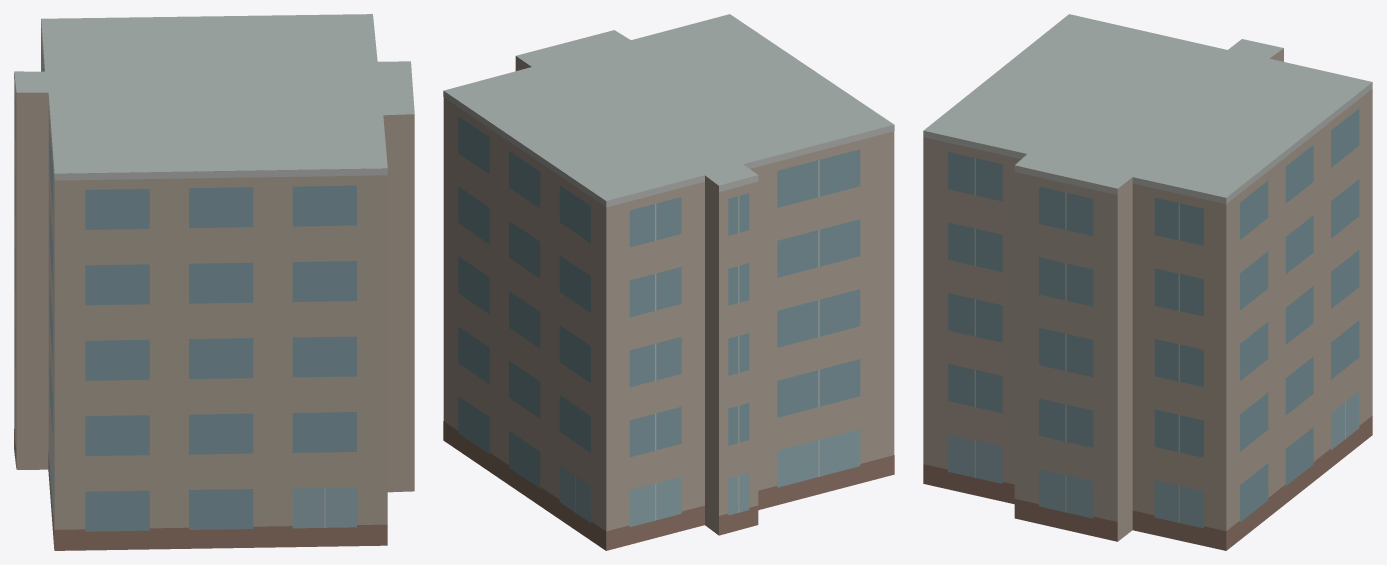
Rendered from survey-upis-32892425.glb.
3 renders of one model, left to right at view 1: azimuth 30°, elevation 25°; view 2: azimuth 150°, elevation 25°; view 3: azimuth 270°, elevation 25°, orthographic. The views are drawn at different scales.
Visible parts, largest first — view 1: survey-upis-32892425.tmp; view 2: survey-upis-32892425.tmp; view 3: survey-upis-32892425.tmp.
Part boxes in pixels (x1,y1,x2,y2): survey-upis-32892425.tmp: (14,14,414,550); survey-upis-32892425.tmp: (443,14,894,550); survey-upis-32892425.tmp: (923,14,1372,550).
Bounding box in the file's own units: 14.86 × 13.3 × 15.35.
